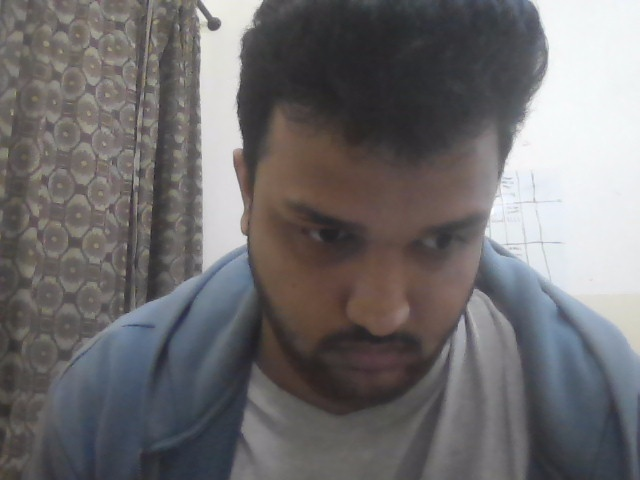awake: (213, 42, 528, 414)
